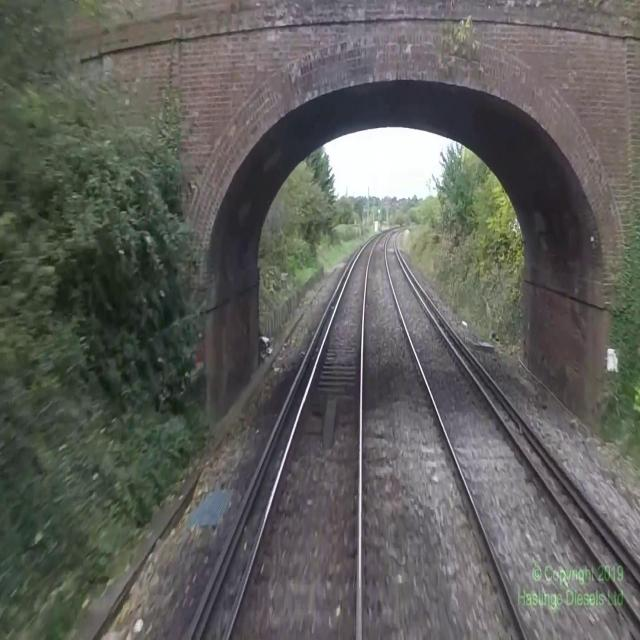rail-track: (386, 229, 640, 639), (227, 231, 387, 639)
